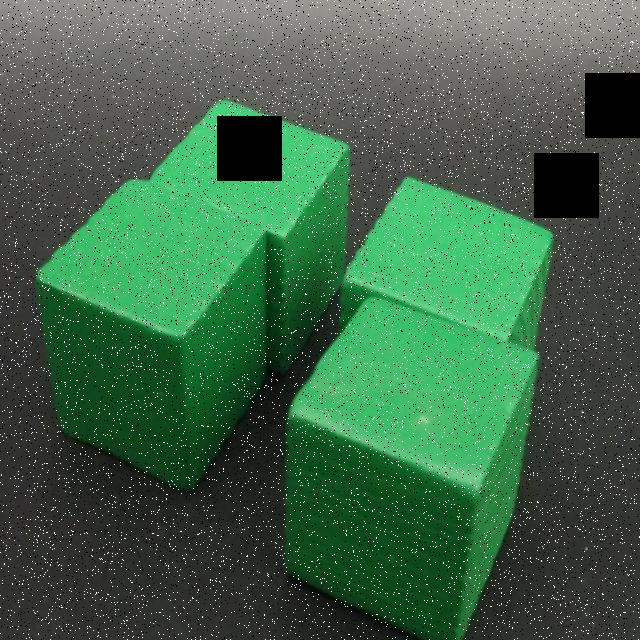green cube: (284, 295, 541, 640), (35, 176, 267, 495), (148, 100, 349, 376), (341, 175, 555, 352)
